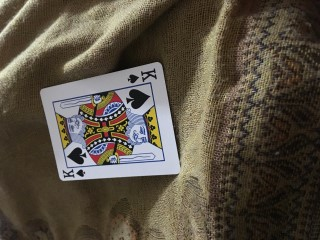KingOfSpades: (40, 62, 181, 182)
